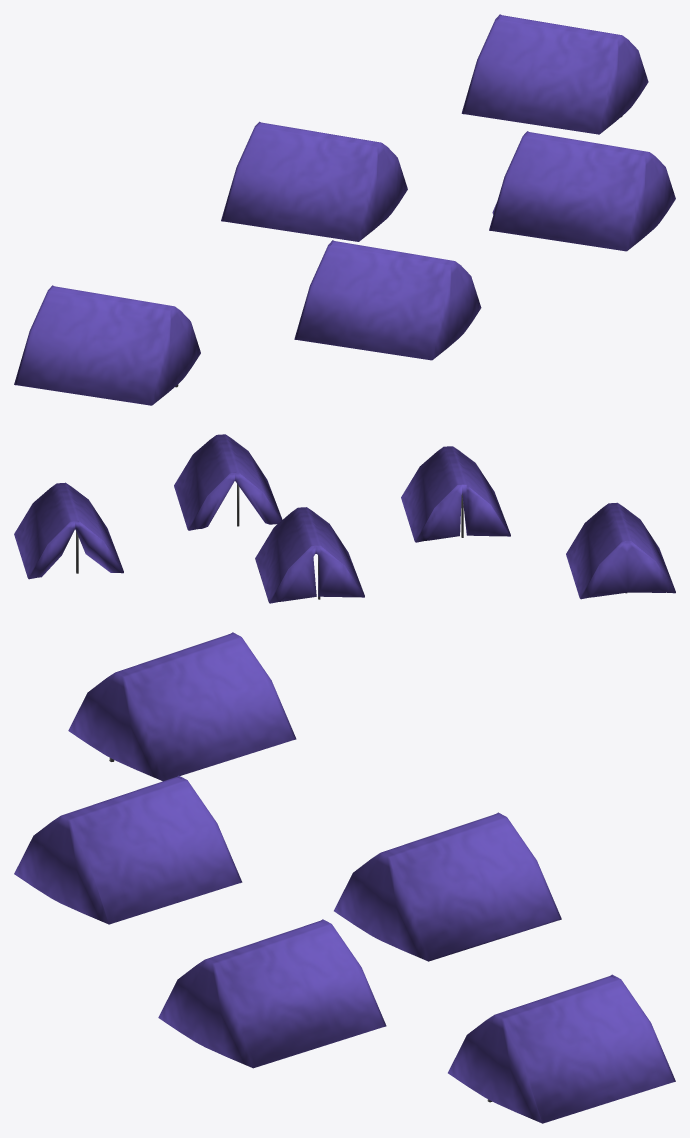
File: Tents_DarkBlue.obj
The picture shows the model from 3 angles, top to bottom: view 1: azimuth 30°, elevation 25°; view 2: azimuth 150°, elevation 25°; view 3: azimuth 270°, elevation 25°; orthographic projection. The views are drawn at different scales.
Parts seen in each view (by area): view 1: Tent_Base.004_Material, Tent_Base.001_Material, Tent_Base.003_Material, Tent_Base_Material, Tent_Base.002_Material; view 2: Tent_Base.004_Material, Tent_Base.002_Material, Tent_Base.003_Material, Tent_Base_Material, Tent_Base.001_Material; view 3: Tent_Base.001_Material, Tent_Base_Material, Tent_Base.003_Material, Tent_Base.002_Material, Tent_Base.004_Material.
Boxes of the visible parts, box(x1,y1,x2,y2) form: Tent_Base.004_Material: box(14, 285, 200, 405); Tent_Base.001_Material: box(489, 131, 675, 251); Tent_Base.003_Material: box(294, 240, 481, 360); Tent_Base_Material: box(461, 14, 648, 134); Tent_Base.002_Material: box(221, 121, 407, 241); Tent_Base.004_Material: box(566, 502, 675, 599); Tent_Base.002_Material: box(255, 507, 364, 603); Tent_Base.003_Material: box(401, 446, 510, 542); Tent_Base_Material: box(14, 482, 123, 579); Tent_Base.001_Material: box(174, 434, 282, 530); Tent_Base.001_Material: box(158, 919, 386, 1068); Tent_Base_Material: box(448, 974, 675, 1123); Tent_Base.003_Material: box(14, 775, 242, 924); Tent_Base.002_Material: box(334, 812, 561, 961); Tent_Base.004_Material: box(68, 632, 296, 781).
Bounding box in the file's own units: 13.56 × 1.26 × 8.67.
